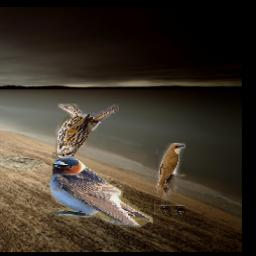Cuckoo: (153, 144, 184, 216)
Sparrow: (52, 104, 119, 161)
Swallow: (48, 156, 152, 227)
